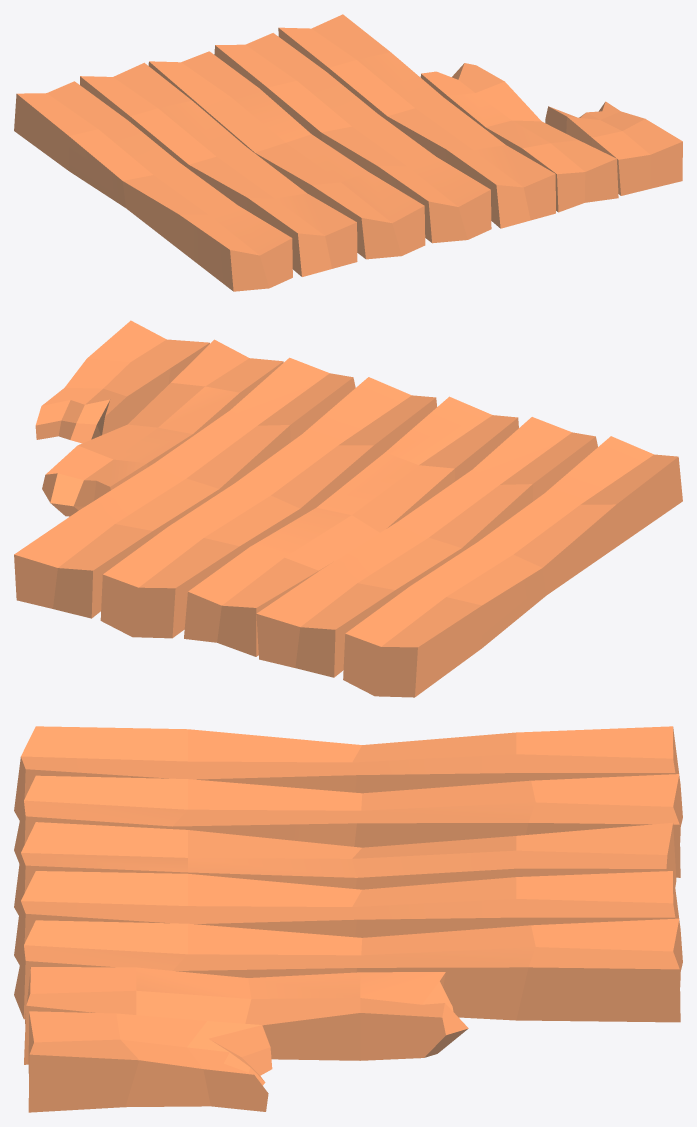
The model's file is PlatformM_Wood5.fbx.
The picture shows the model from 3 angles, top to bottom: view 1: azimuth 30°, elevation 25°; view 2: azimuth 150°, elevation 25°; view 3: azimuth 270°, elevation 25°; orthographic projection. The views are drawn at different scales.
Visible parts, largest first — view 1: WoodPlank4_1, WoodPlank4, WoodPlank5_1, WoodPlank5, WoodPlank6, WoodPlank7, WoodPlank11; view 2: WoodPlank4_1, WoodPlank4, WoodPlank5_1, WoodPlank5, WoodPlank6, WoodPlank7, WoodPlank11; view 3: WoodPlank5, WoodPlank5_1, WoodPlank4, WoodPlank4_1, WoodPlank6, WoodPlank7, WoodPlank11.
Boxes of the visible parts, box(x1,y1,x2,y2) form: WoodPlank4_1: box(14, 81, 292, 291); WoodPlank4: box(214, 33, 491, 243); WoodPlank5_1: box(80, 62, 357, 276); WoodPlank5: box(278, 14, 555, 228); WoodPlank6: box(148, 51, 425, 259); WoodPlank7: box(420, 63, 618, 212); WoodPlank11: box(545, 101, 682, 195); WoodPlank4_1: box(343, 436, 682, 697); WoodPlank4: box(100, 377, 436, 638); WoodPlank5_1: box(256, 417, 597, 677); WoodPlank5: box(14, 357, 355, 618); WoodPlank6: box(184, 396, 518, 656); WoodPlank7: box(42, 339, 283, 516); WoodPlank11: box(35, 320, 209, 443); WoodPlank5: box(14, 918, 680, 1022); WoodPlank5_1: box(14, 774, 680, 877); WoodPlank4: box(14, 871, 682, 971); WoodPlank4_1: box(14, 726, 682, 826); WoodPlank6: box(14, 822, 676, 915); WoodPlank7: box(24, 967, 468, 1064); WoodPlank11: box(28, 1011, 272, 1112).
Bounding box in the file's own units: 460 × 44.35 × 396.
